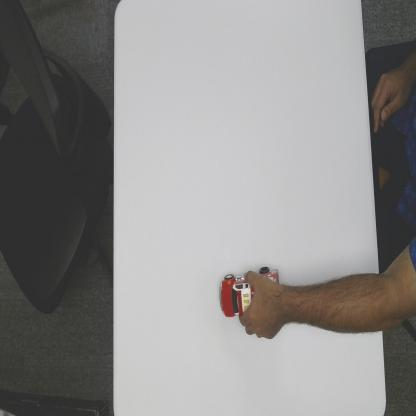Arm: (292, 257, 416, 339)
Firetruck: (219, 271, 253, 320)
Hand: (241, 268, 290, 346)
